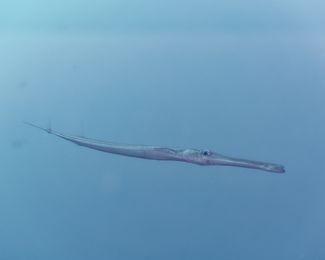Fistularia commersonii: (22, 118, 286, 175)
